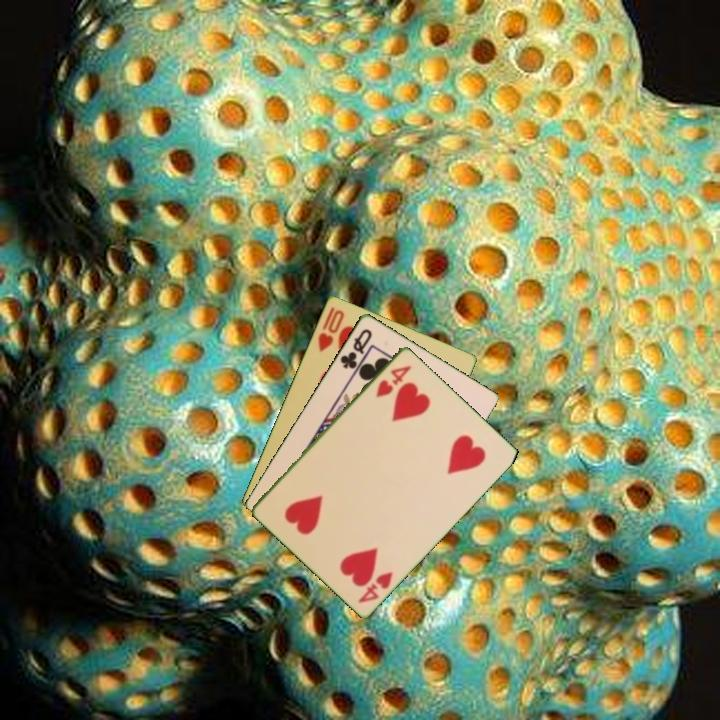10h: (314, 303, 347, 355)
4h: (372, 361, 414, 400), (354, 568, 396, 605)
Qc: (336, 324, 375, 372)
